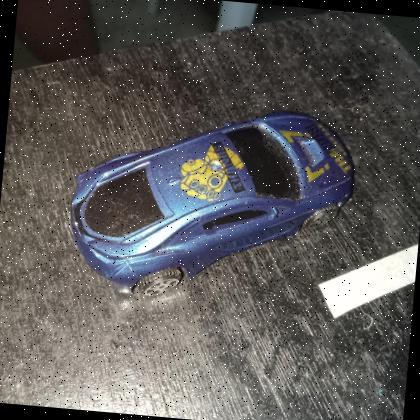Car: (61, 89, 361, 310)
